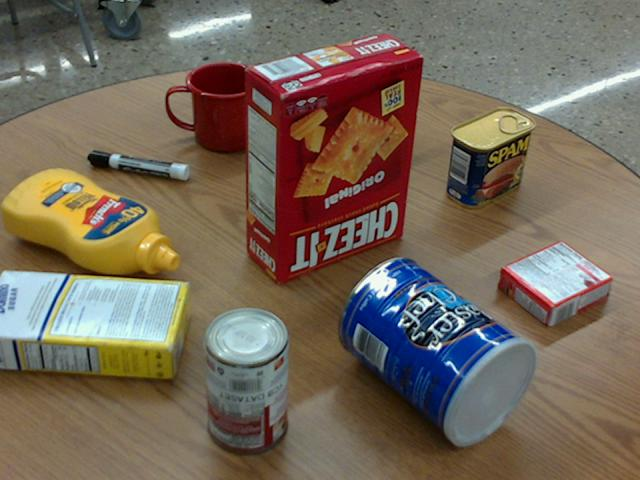cracker_box: (243, 31, 423, 283)
gelatin_box: (497, 238, 612, 325)
large_marker: (89, 150, 189, 179)
master_chef_can: (338, 256, 539, 446)
mug: (166, 62, 262, 152)
mustard_bottle: (3, 167, 179, 274)
potted_meat_can: (447, 107, 535, 208)
sugar_box: (0, 267, 190, 379)
tomato_soup_can: (204, 305, 291, 453)
tuna_fish_can: (333, 82, 405, 156)
